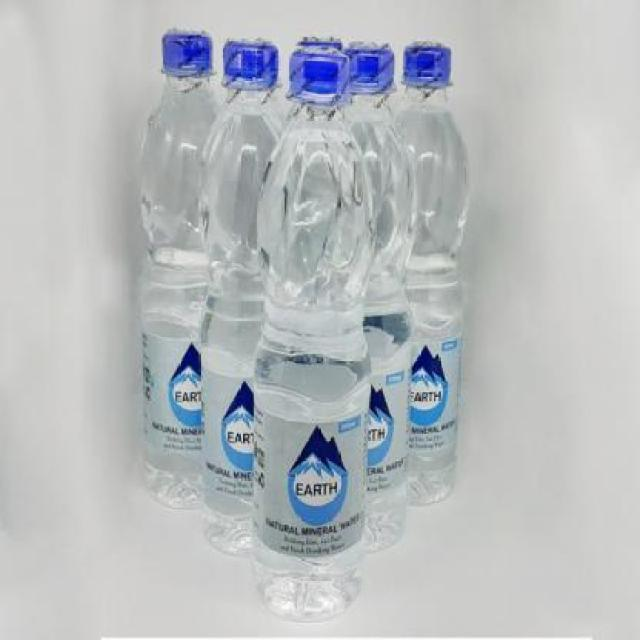bottle: (256, 57, 373, 622), (125, 14, 220, 510), (390, 35, 469, 512), (209, 31, 273, 562), (360, 26, 402, 549)
